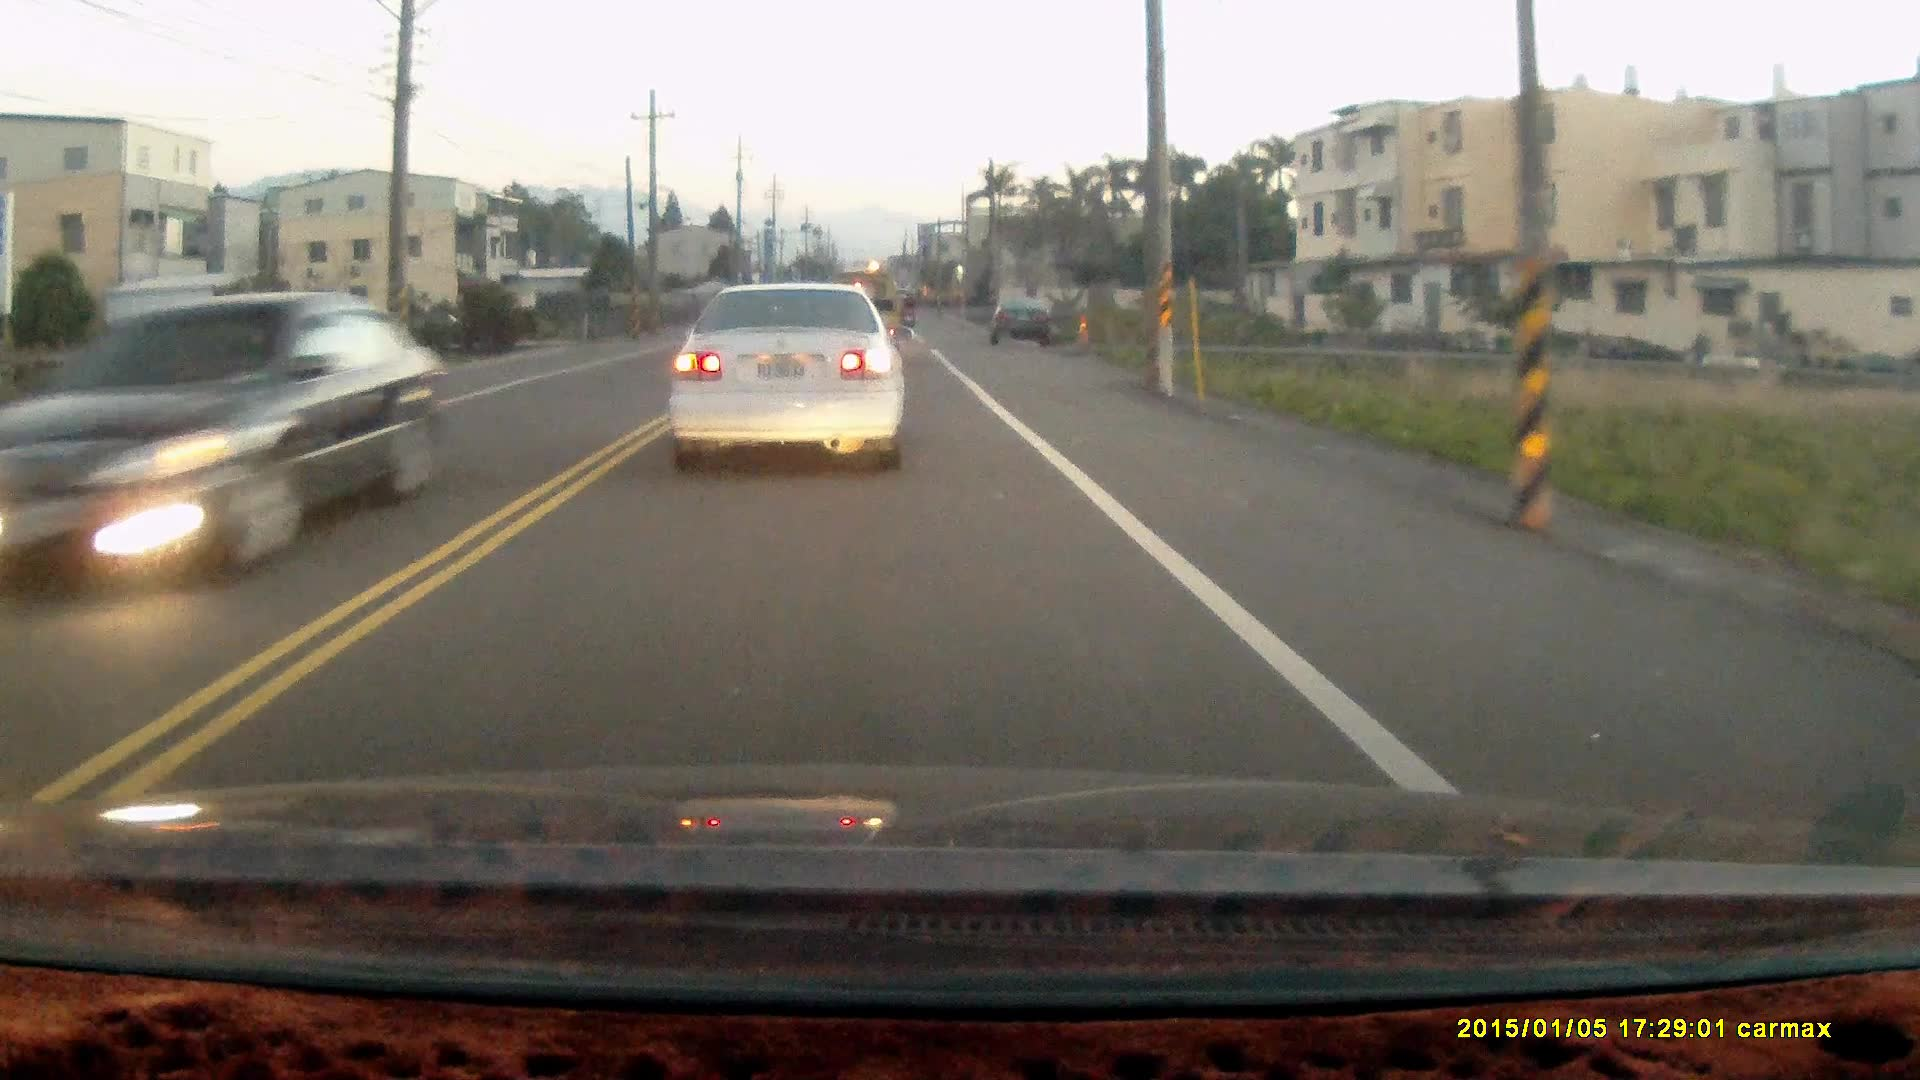vehicle: (3, 293, 465, 604), (665, 291, 907, 487), (996, 294, 1065, 353)
